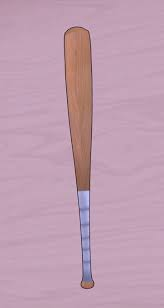baseball bat: (63, 25, 92, 289)
